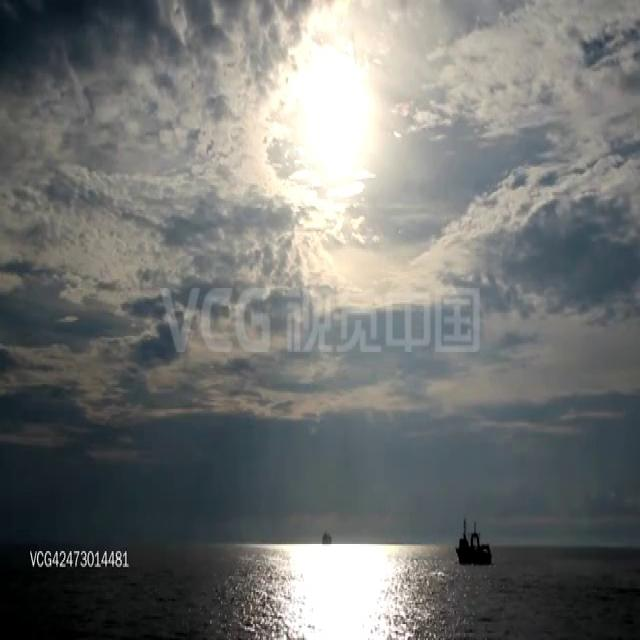fishing boat: (453, 515, 495, 566)
